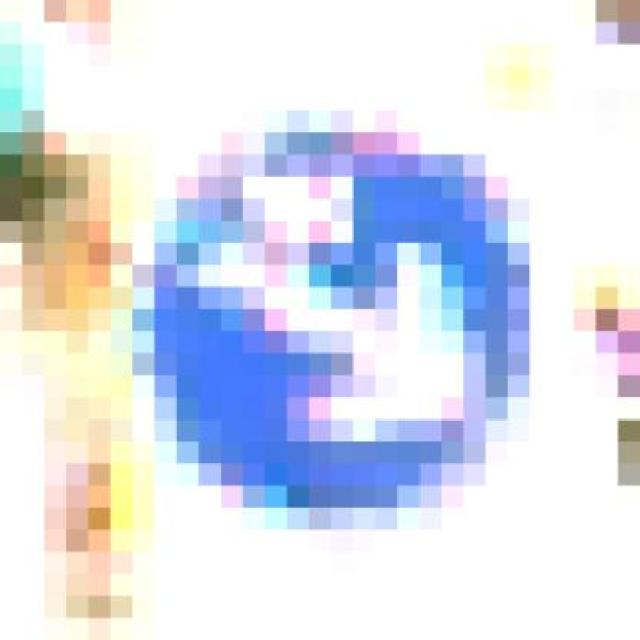Keep-Right: (88, 89, 574, 552)
